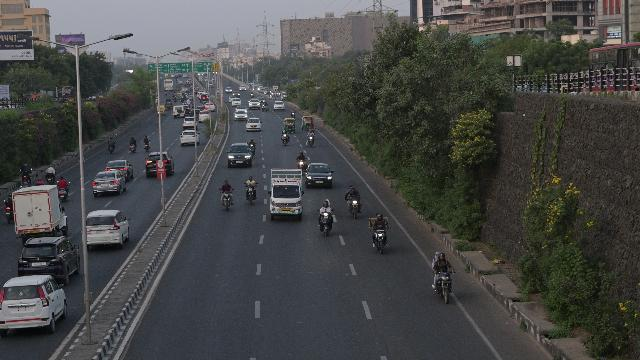With Helmet: (438, 254, 446, 262), (322, 200, 330, 207), (376, 214, 384, 220)
Without Helmet: (435, 252, 439, 258), (224, 180, 228, 186), (352, 188, 356, 192), (248, 176, 252, 180), (350, 185, 352, 190)
